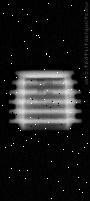Novodent: (8, 65, 82, 131)
